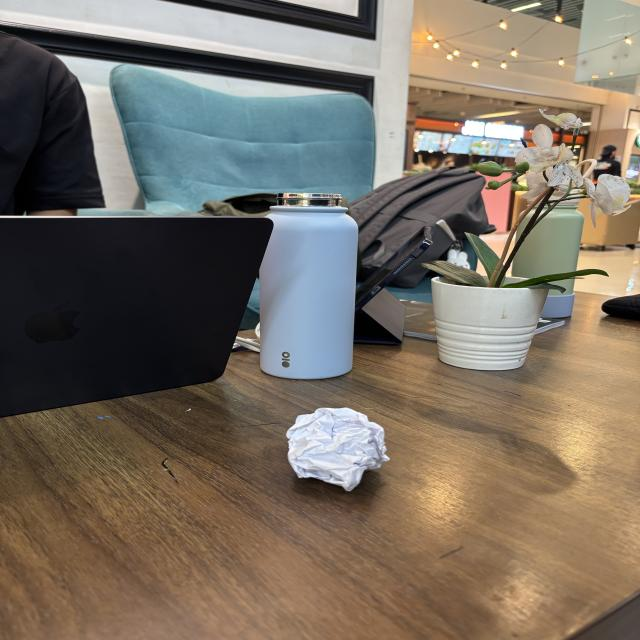crumpled_paper: (285, 400, 397, 503)
